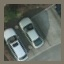car: (26, 18, 38, 49), (7, 28, 19, 59)
